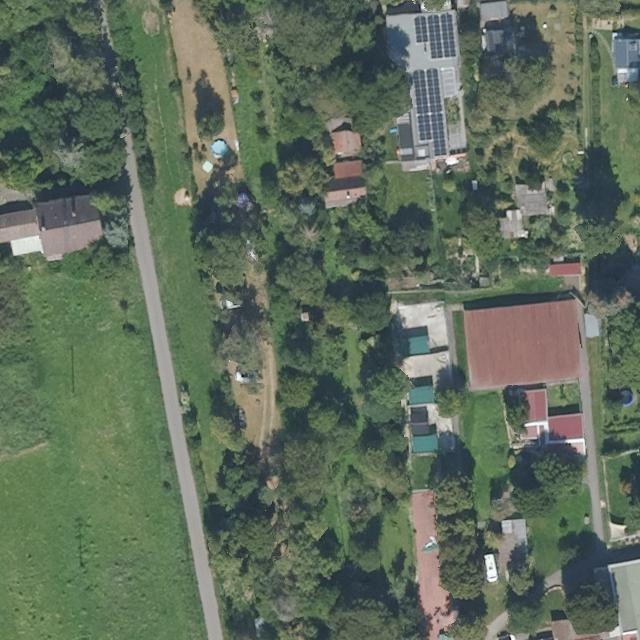PV: (410, 66, 448, 158), (410, 12, 458, 61)
